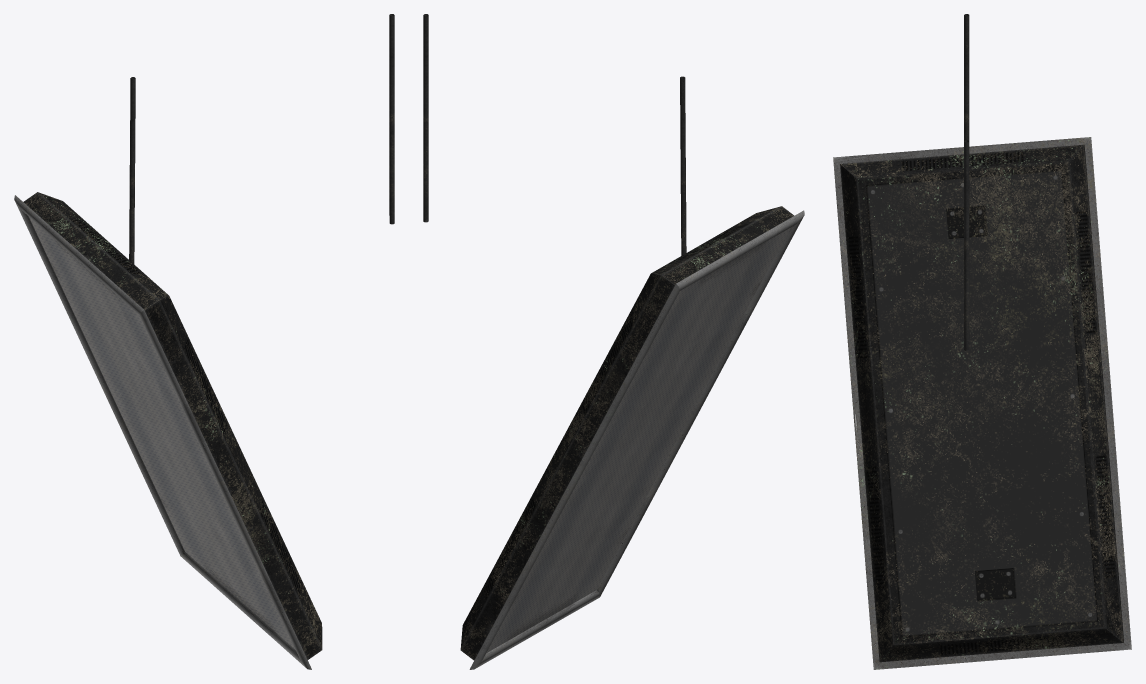
Rendered from LampFluoBuiltinE.fbx.
The picture shows the model from 3 angles, left to right: view 1: azimuth 30°, elevation 25°; view 2: azimuth 150°, elevation 25°; view 3: azimuth 270°, elevation 25°; orthographic projection.
Parts seen in each view (by area): view 1: LampFluoBuiltinE; view 2: LampFluoBuiltinE; view 3: LampFluoBuiltinE.
Part boxes in pixels (x1,y1,x2,y2): LampFluoBuiltinE: (14,14,394,669); LampFluoBuiltinE: (423,14,804,669); LampFluoBuiltinE: (833,14,1131,669).
Size of the model in its own units: 96.84 by 171 by 78.54.
